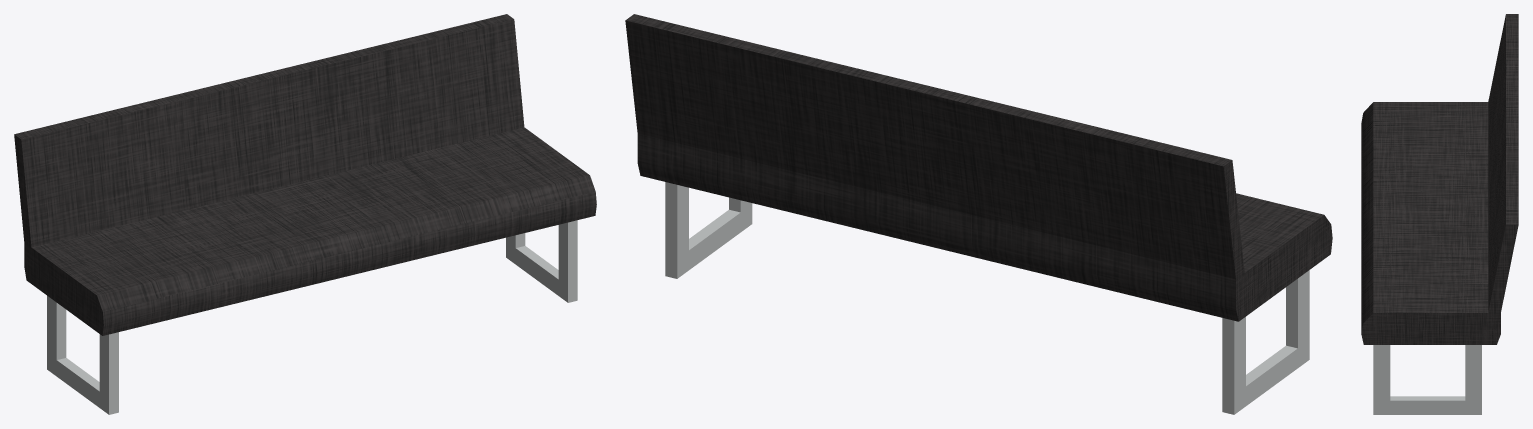
Rendered from Couch.fbx.
3 views of the same model, side by side, from view 1: azimuth 30°, elevation 25°; view 2: azimuth 150°, elevation 25°; view 3: azimuth 270°, elevation 25° (orthographic). The views are drawn at different scales.
Parts seen in each view (by area): view 1: Couch; view 2: Couch; view 3: Couch.
Part boxes in pixels (x1,y1,x2,y2): Couch: (14, 14, 596, 414); Couch: (625, 14, 1332, 414); Couch: (1361, 14, 1518, 414).
Bounding box in the file's own units: 257 × 111 × 81.06.
